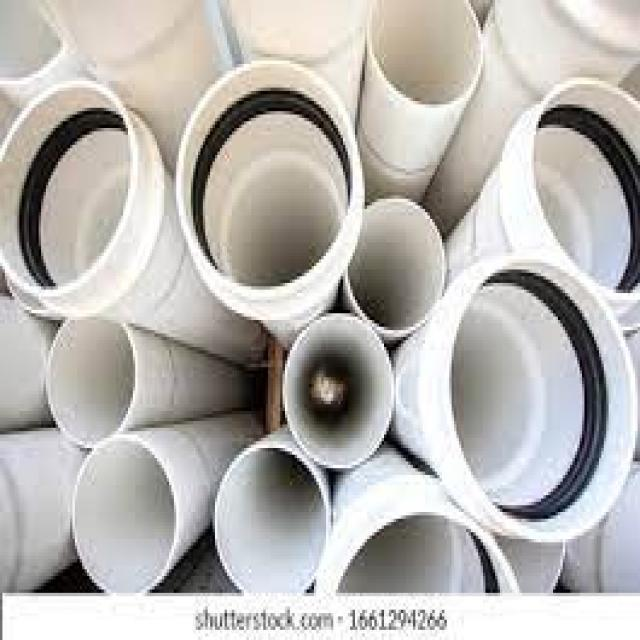pipe: (450, 258, 640, 542), (178, 57, 356, 291), (533, 79, 639, 293), (283, 307, 395, 471), (213, 446, 330, 594), (70, 436, 177, 593), (330, 511, 518, 592), (345, 196, 447, 330), (368, 0, 480, 107), (46, 320, 134, 445)
